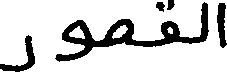X: (58, 15, 89, 66), (0, 30, 32, 71), (109, 14, 131, 50), (164, 0, 175, 49), (218, 0, 226, 52), (202, 0, 207, 71)
